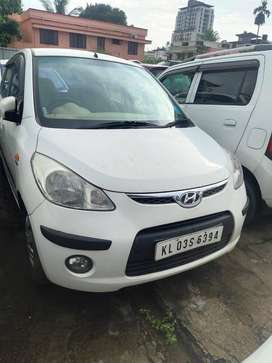KL03S6394: (154, 224, 223, 261)
